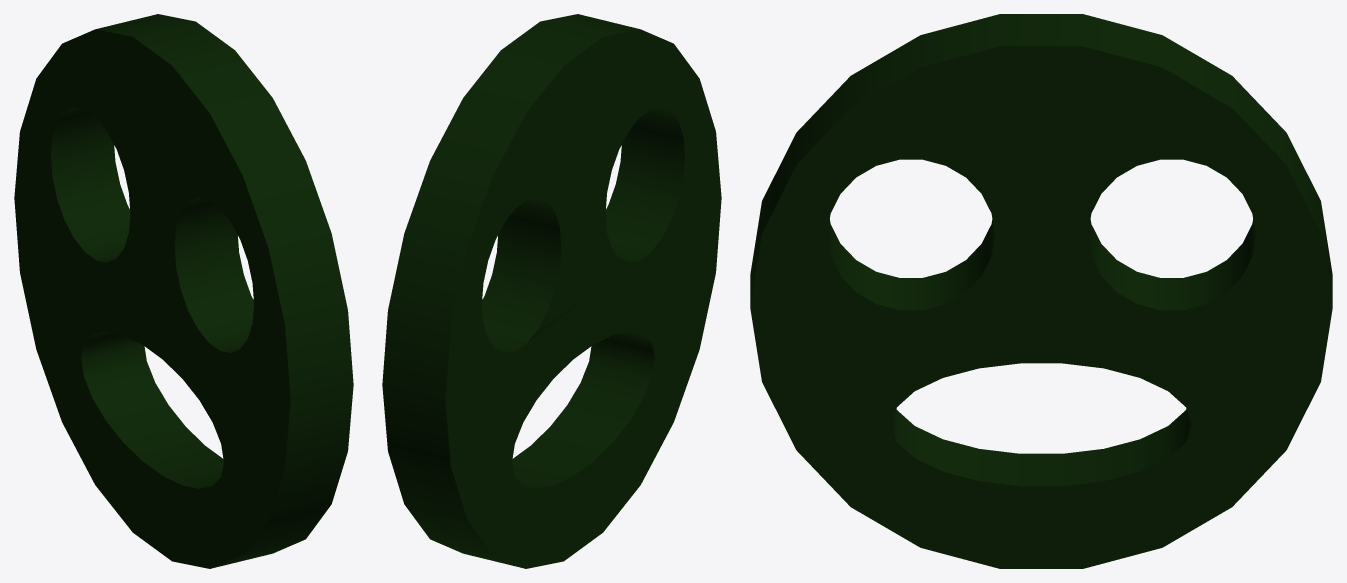
Rendered from clé.fbx.
3 views of the same model, side by side, from view 1: azimuth 30°, elevation 25°; view 2: azimuth 150°, elevation 25°; view 3: azimuth 270°, elevation 25° (orthographic). The views are drawn at different scales.
Parts seen in each view (by area): view 1: Cylinder002; view 2: Cylinder002; view 3: Cylinder002.
Boxes of the visible parts, x1=… form: Cylinder002: x1=14, y1=14, x2=353, y2=568; Cylinder002: x1=382, y1=14, x2=721, y2=568; Cylinder002: x1=750, y1=14, x2=1332, y2=568.
Bounding box in the file's own units: 1.24 × 9.36 × 9.46.
